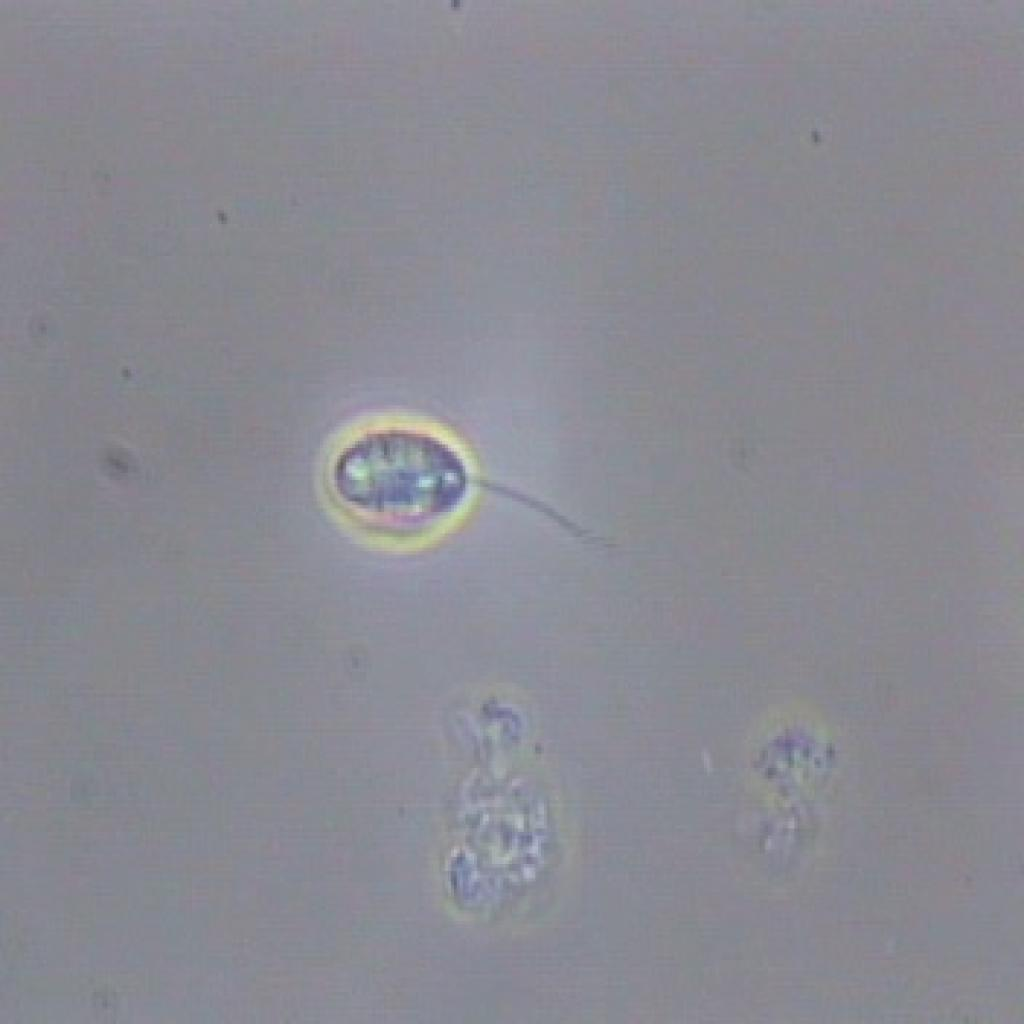Flagellates: (306, 398, 620, 594)
